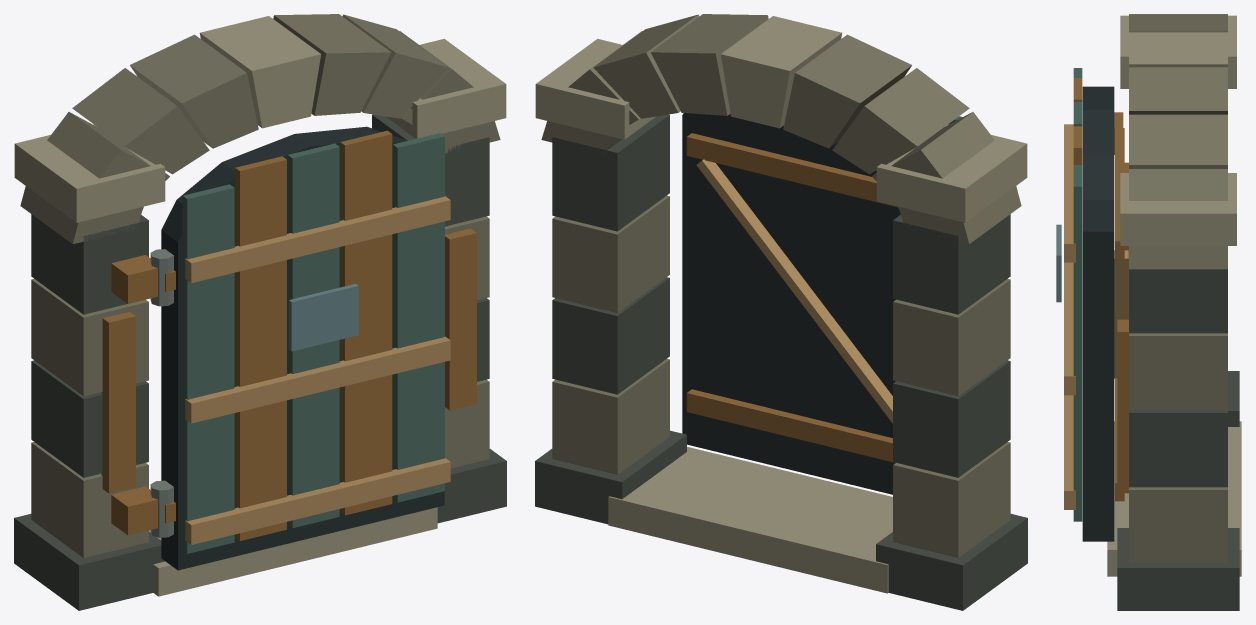
File: LINKED_DOOR.shadow.glb
3 renders of one model, left to right at view 1: azimuth 30°, elevation 25°; view 2: azimuth 150°, elevation 25°; view 3: azimuth 270°, elevation 25°, orthographic. The views are drawn at different scales.
Visible parts, largest first — view 1: Body_Mesh, DoorPivot_Mesh, SignSurface_Mesh; view 2: Body_Mesh, DoorPivot_Mesh; view 3: Body_Mesh, DoorPivot_Mesh, SignSurface_Mesh.
Boxes of the visible parts, left/top/right/bottom form: Body_Mesh: left=14, top=14, right=506, bottom=610; DoorPivot_Mesh: left=161, top=126, right=450, bottom=570; SignSurface_Mesh: left=288, top=283, right=358, bottom=351; Body_Mesh: left=535, top=14, right=1027, bottom=610; DoorPivot_Mesh: left=682, top=113, right=962, bottom=494; Body_Mesh: left=1107, top=14, right=1241, bottom=610; DoorPivot_Mesh: left=1064, top=68, right=1128, bottom=541; SignSurface_Mesh: left=1056, top=224, right=1061, bottom=302.
Bounding box in the file's own units: 2.37 × 2.59 × 0.939.
